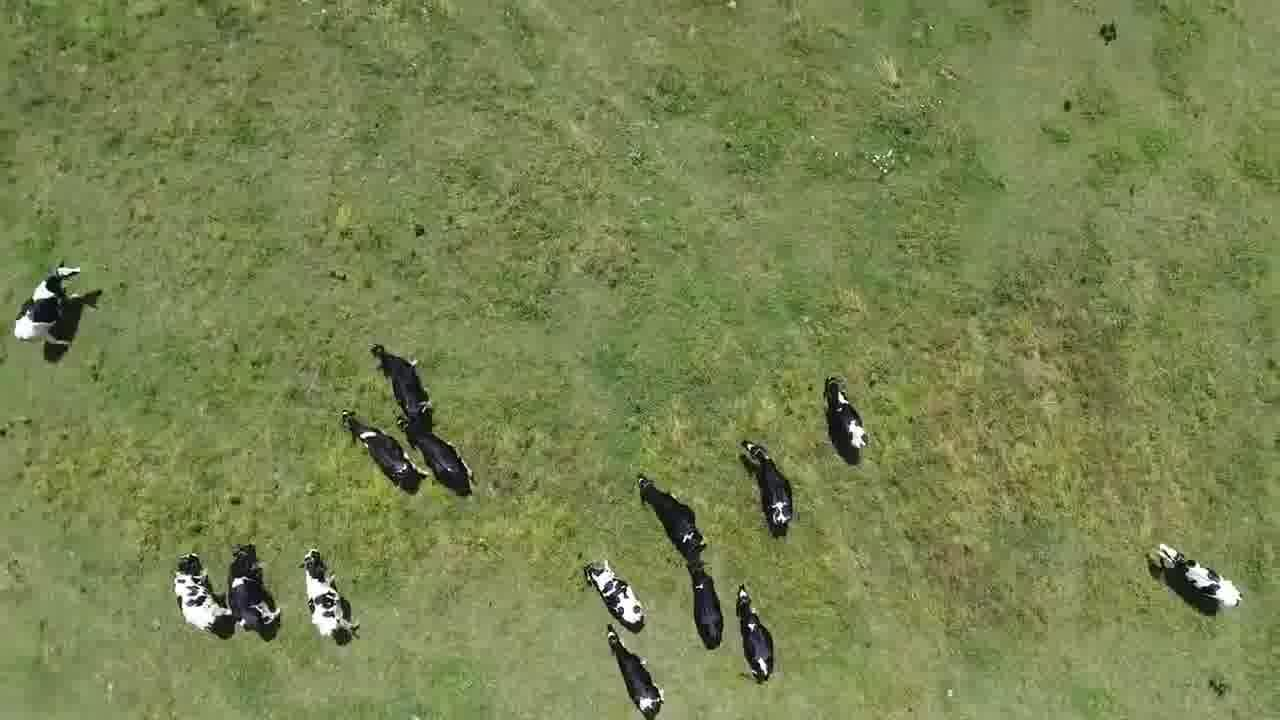cow: (339, 408, 432, 490), (633, 471, 709, 562), (12, 260, 83, 356), (601, 625, 671, 720), (295, 547, 361, 645), (1156, 539, 1247, 610), (398, 417, 480, 495), (223, 541, 283, 638), (170, 549, 231, 639), (369, 344, 441, 420), (740, 438, 795, 536), (579, 559, 648, 630), (734, 579, 779, 685), (685, 556, 728, 653), (820, 375, 873, 453)
